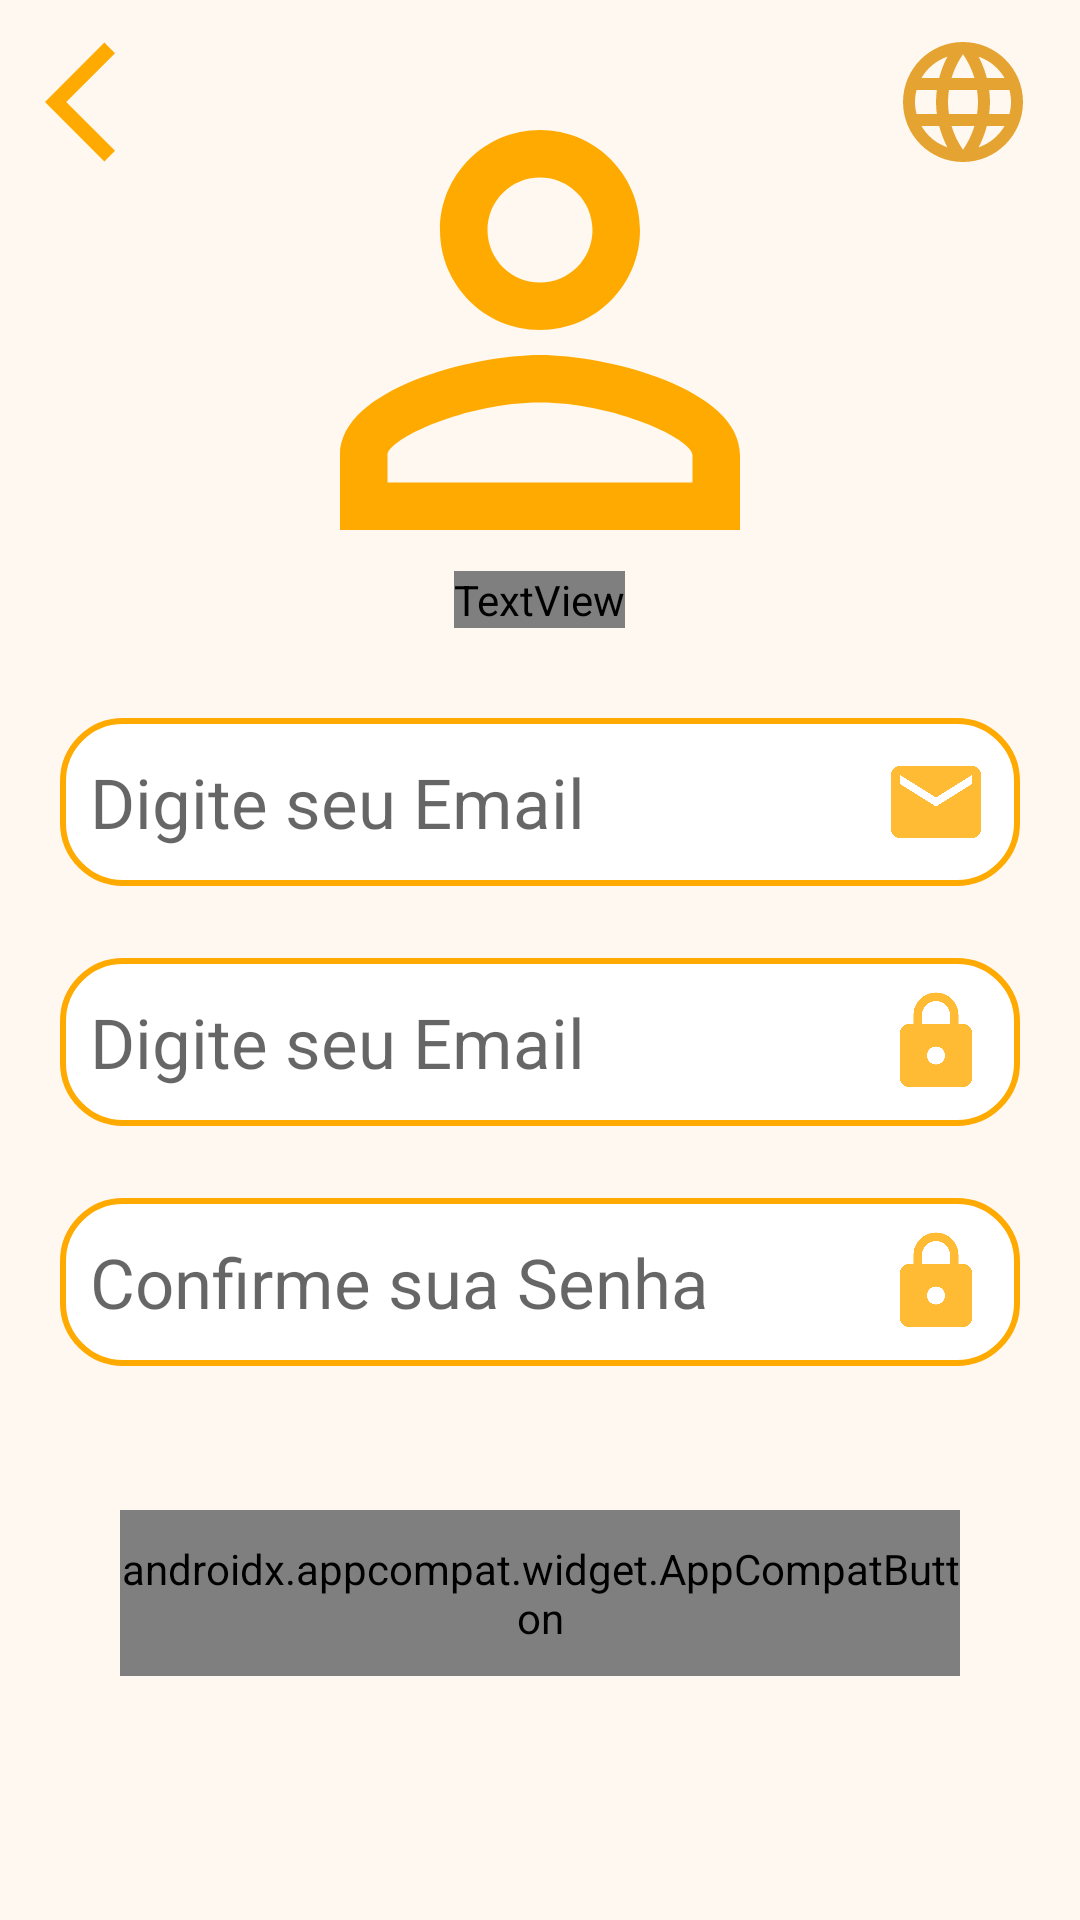

Icon bounding boxes for this 1080px×1920px phone screenshot, format (x1, y1, x2, y2):
flecha voltar: (45, 42, 115, 162)
